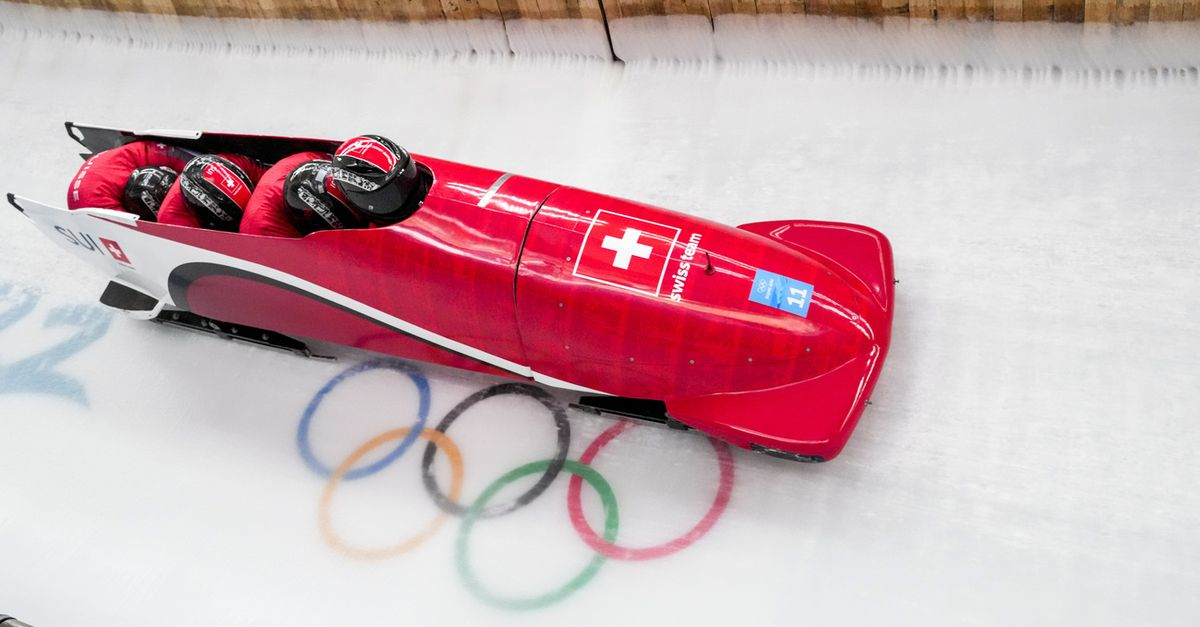Bobsleigh: (6, 121, 895, 463)
